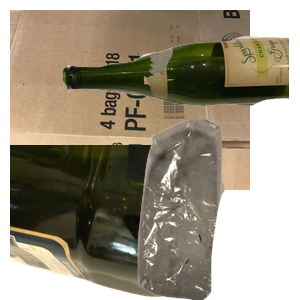cardboard: (10, 10, 250, 190)
glass: (60, 34, 300, 133)
plastic: (10, 145, 213, 300)
trash: (114, 120, 300, 300)
